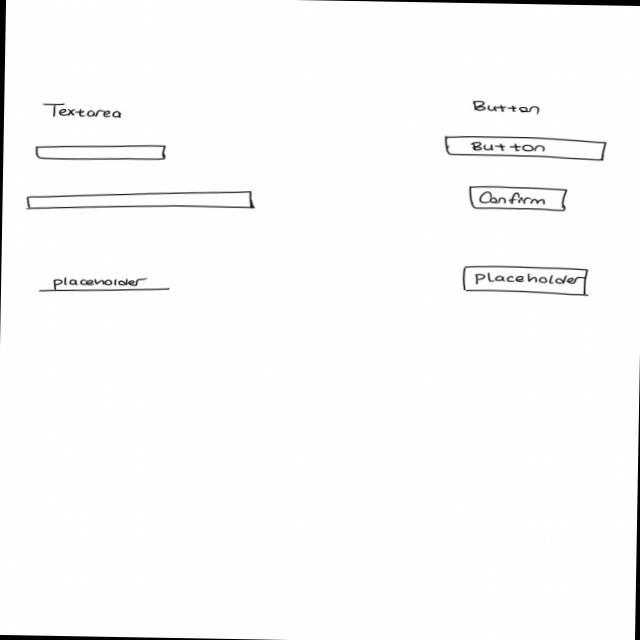button: (440, 134, 608, 163), (459, 264, 589, 298), (467, 184, 570, 213)
container: (21, 185, 257, 215), (34, 140, 168, 163)
input: (38, 270, 170, 295)
label: (42, 102, 124, 120), (468, 100, 542, 116)
